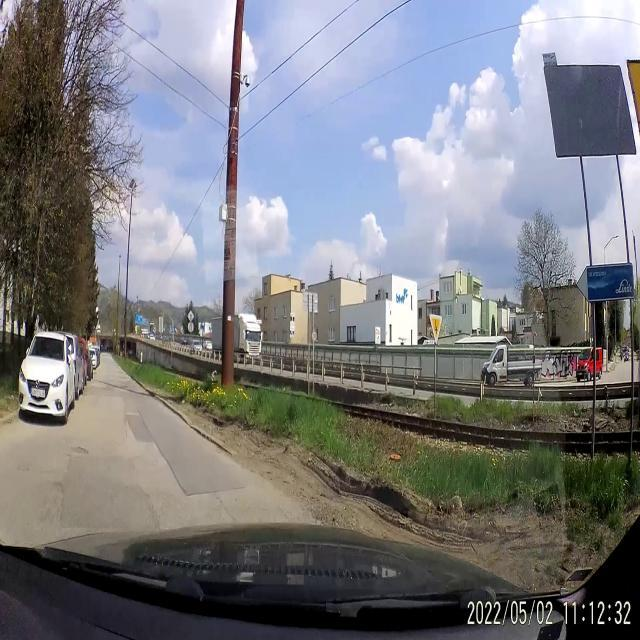Pothole: (68, 438, 94, 460)
